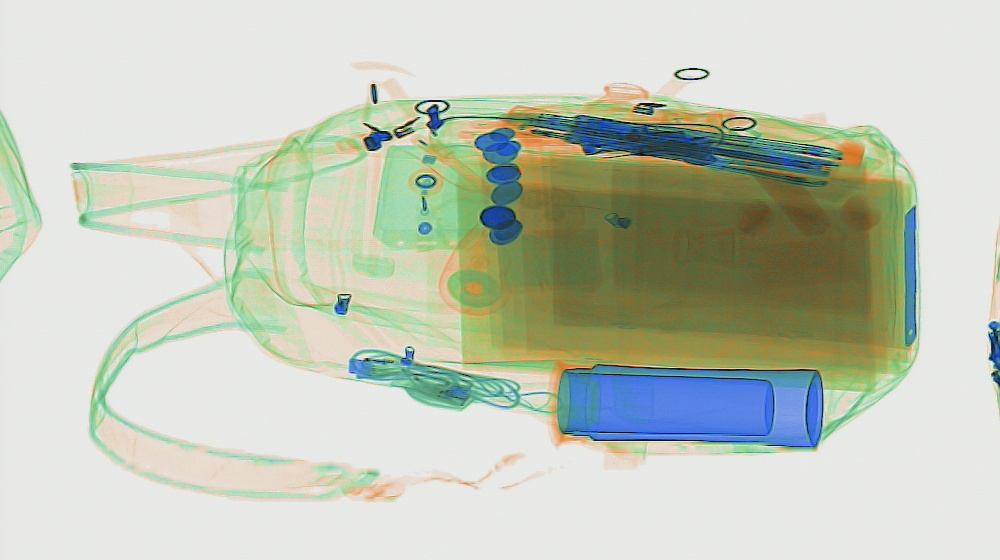knife: (901, 203, 919, 346)
